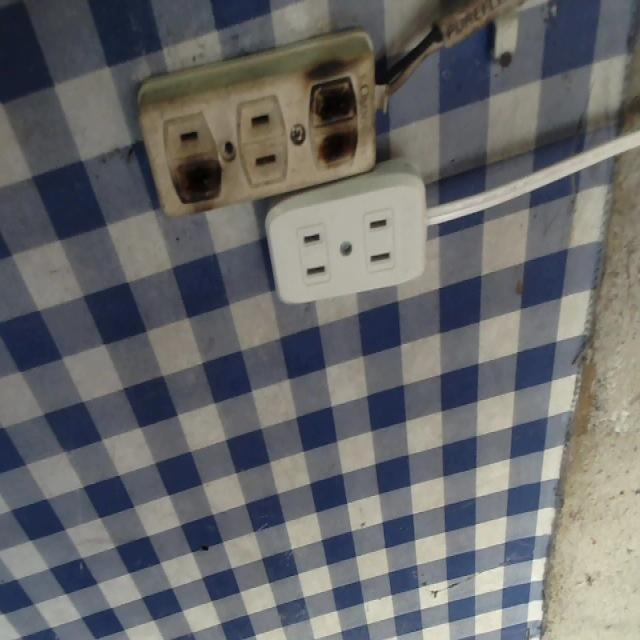-: (300, 69, 366, 172), (161, 150, 233, 207)
